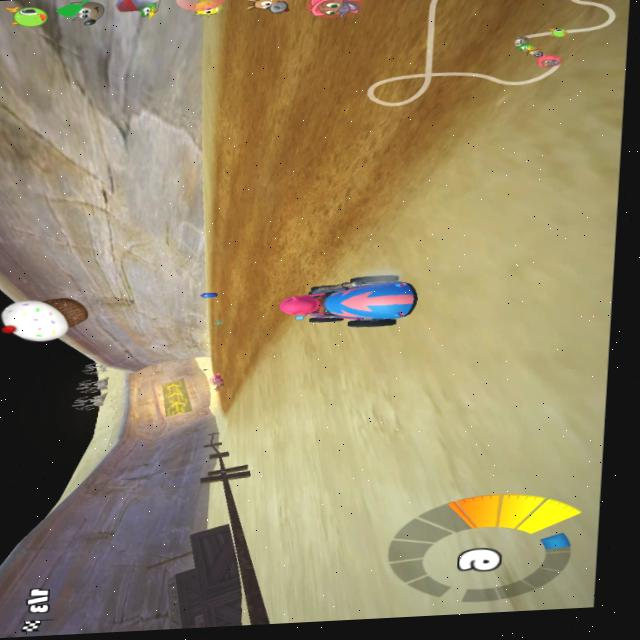nitro: (195, 288, 216, 299)
player_kart: (280, 273, 425, 332)
track: (214, 0, 429, 181), (415, 0, 467, 170), (268, 176, 351, 278), (204, 181, 278, 287), (212, 288, 249, 383), (245, 289, 262, 371), (217, 385, 232, 410)
